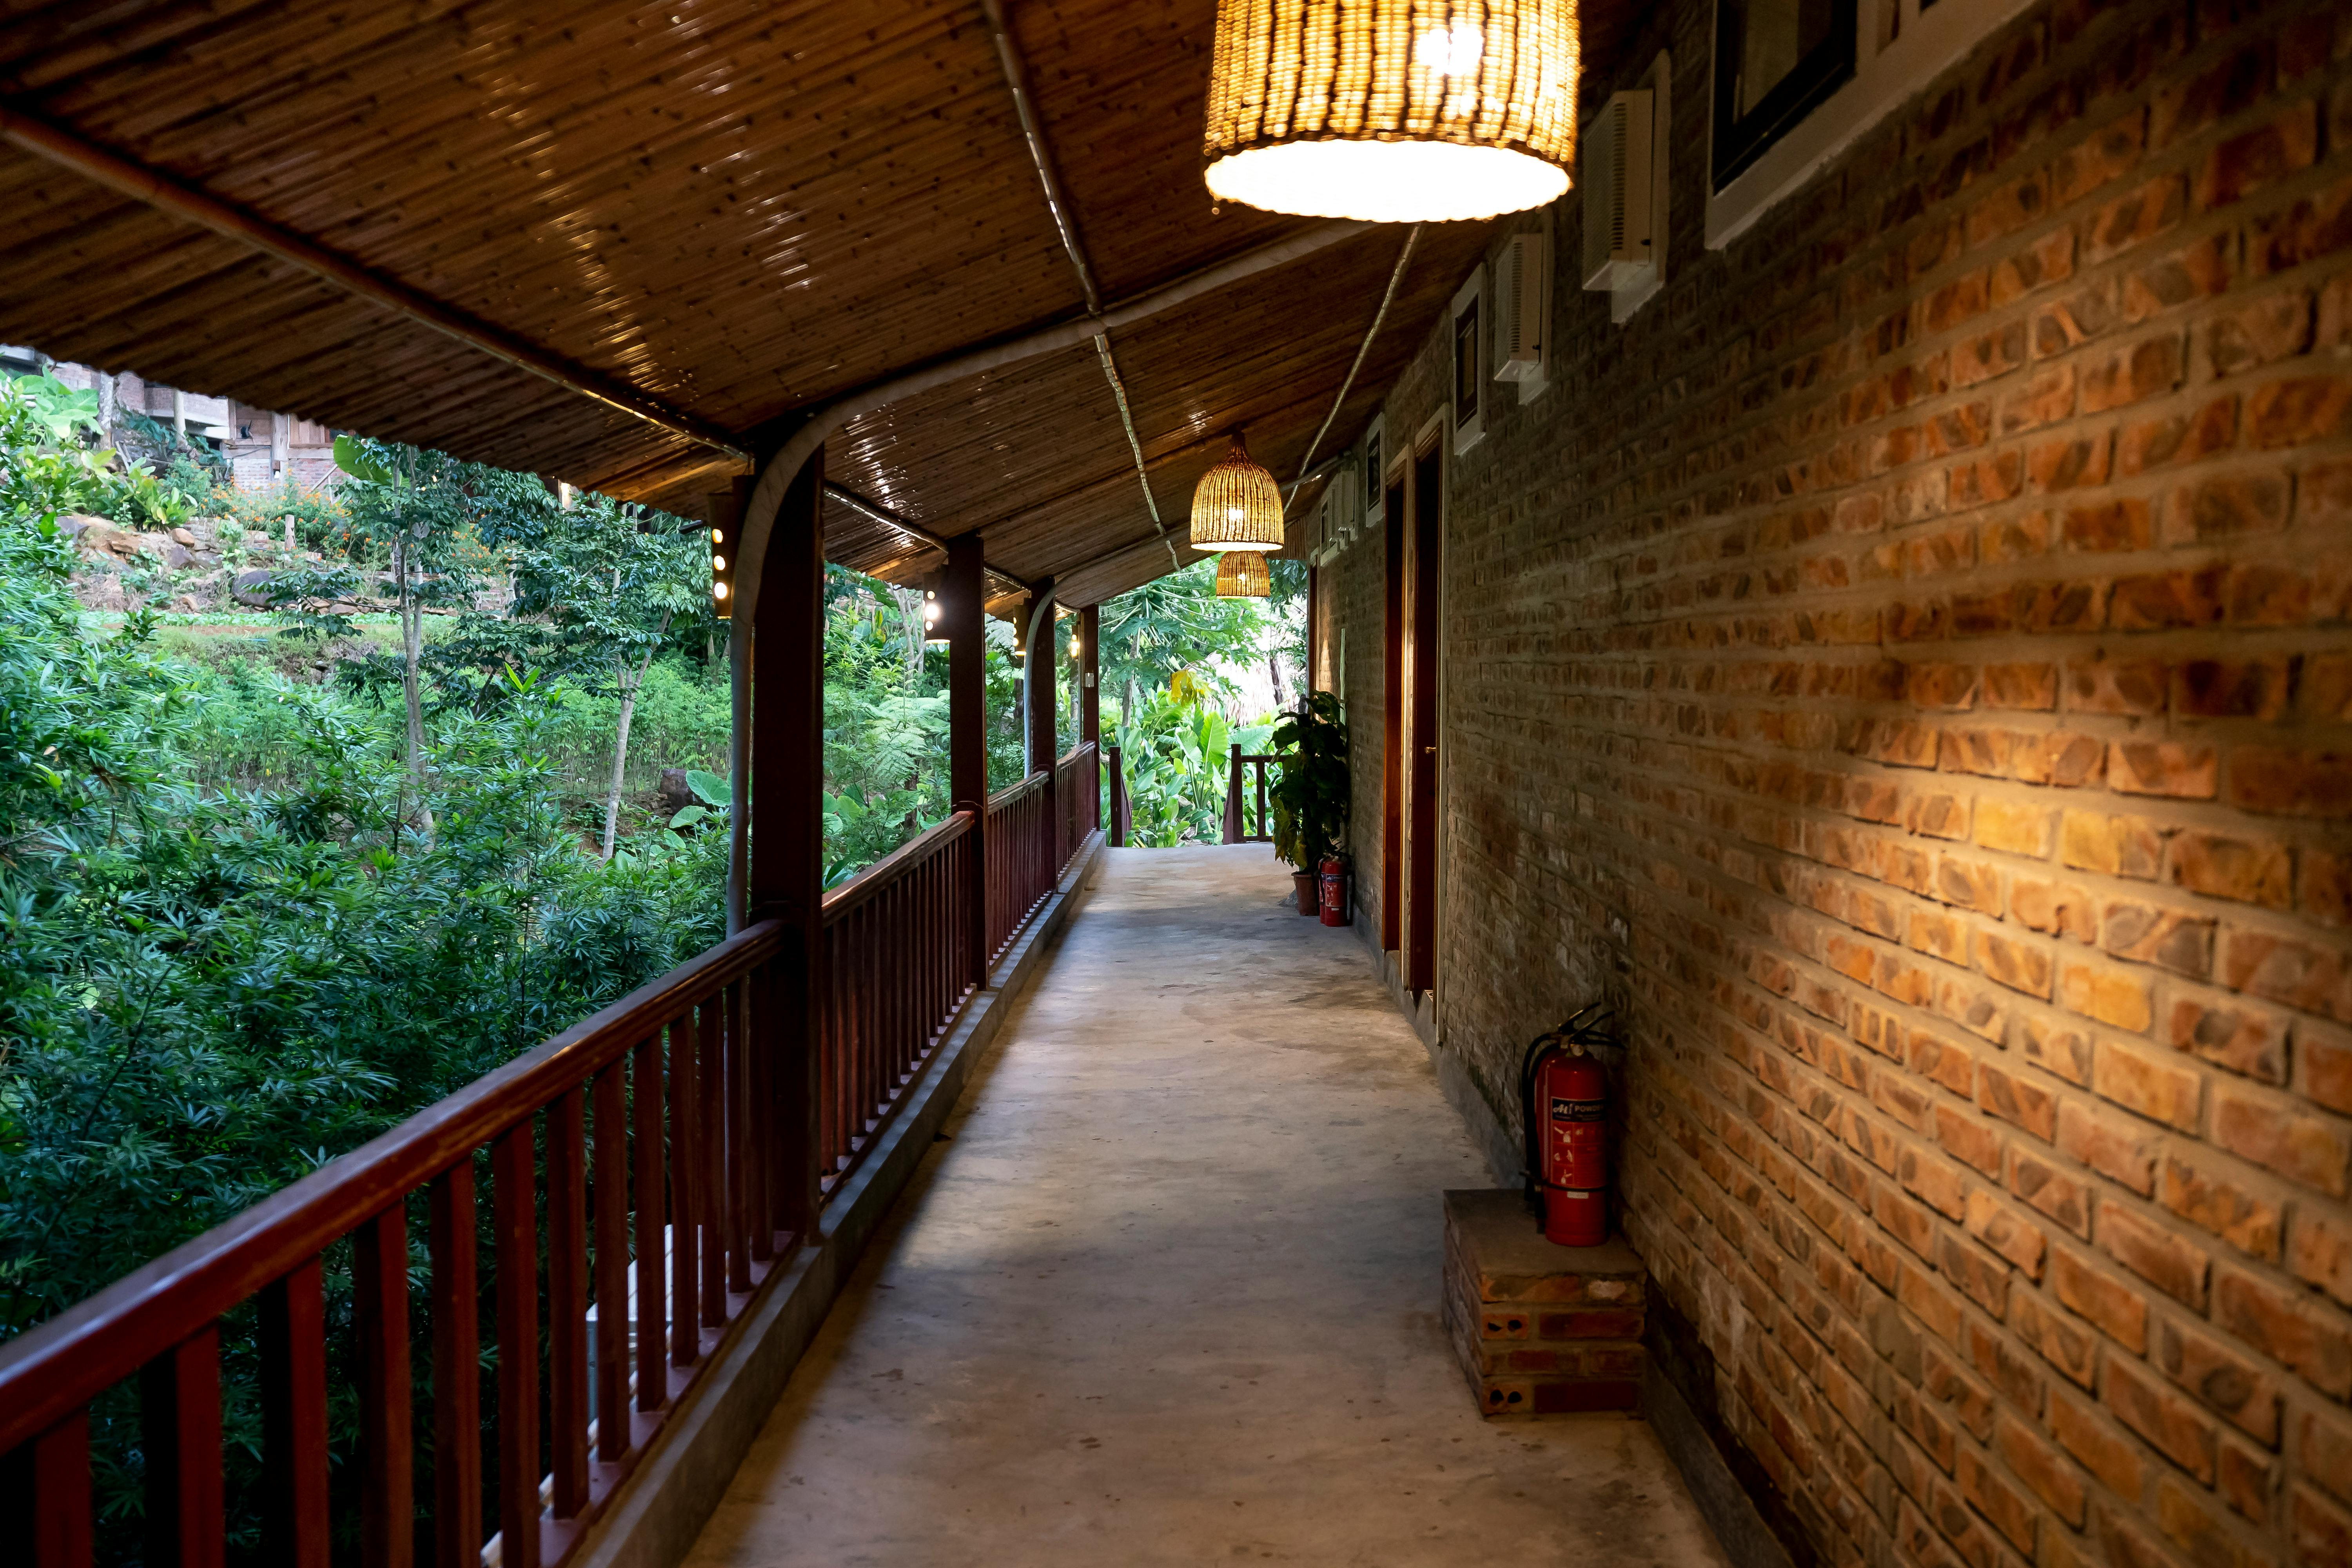extintor: (1538, 1008, 1634, 1253), (1514, 998, 1600, 1218), (1312, 835, 1360, 933)
